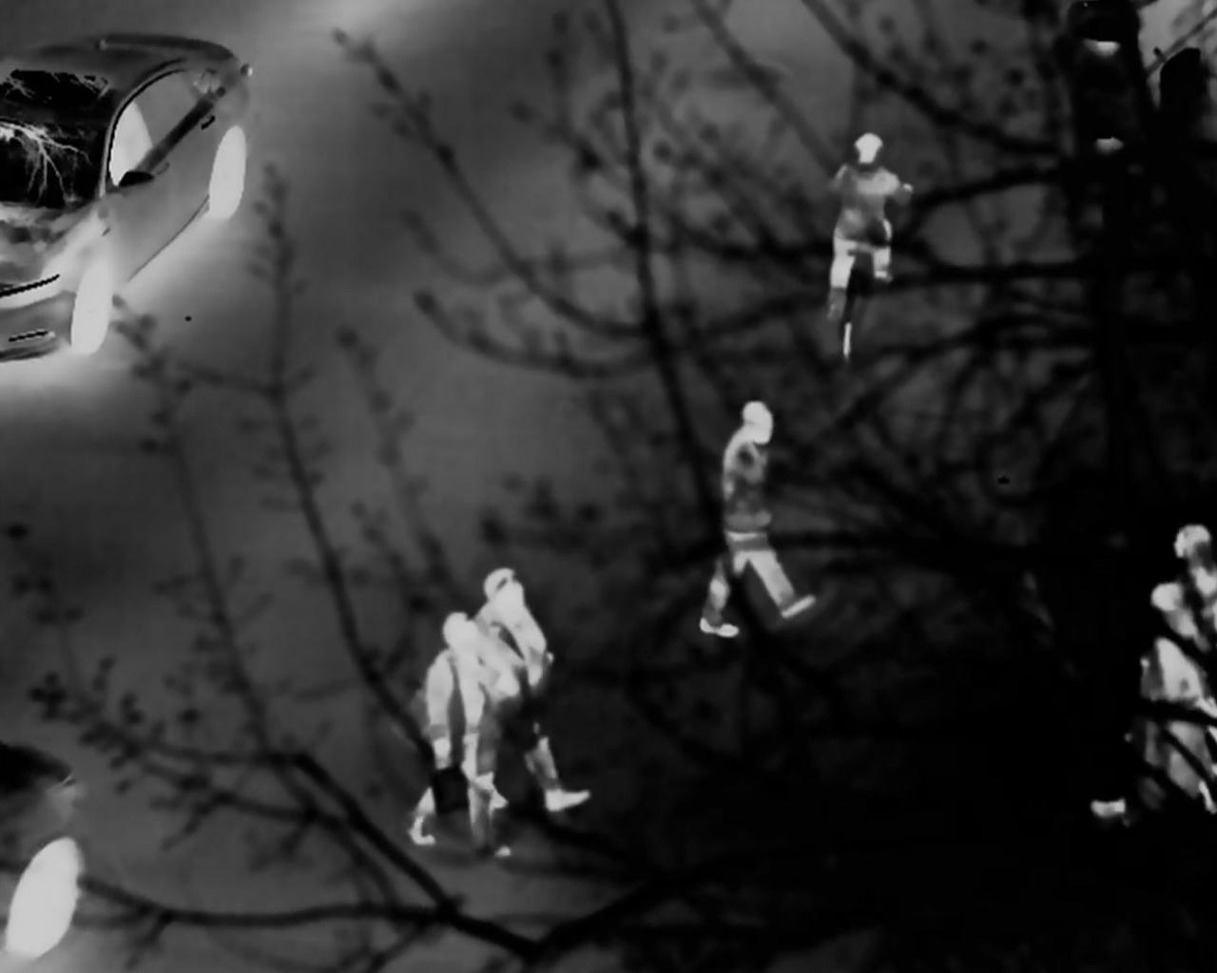person: (466, 532, 592, 802), (703, 391, 802, 630), (1135, 521, 1215, 796), (426, 607, 507, 836), (830, 125, 897, 367)
